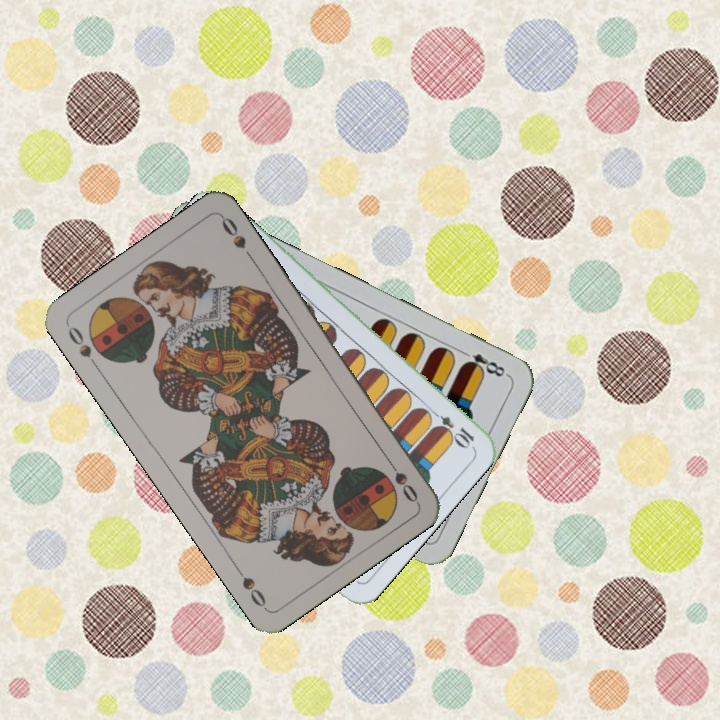E10: (425, 405, 477, 450)
E8: (456, 345, 511, 380)
SO: (381, 452, 421, 505), (63, 321, 102, 373)
